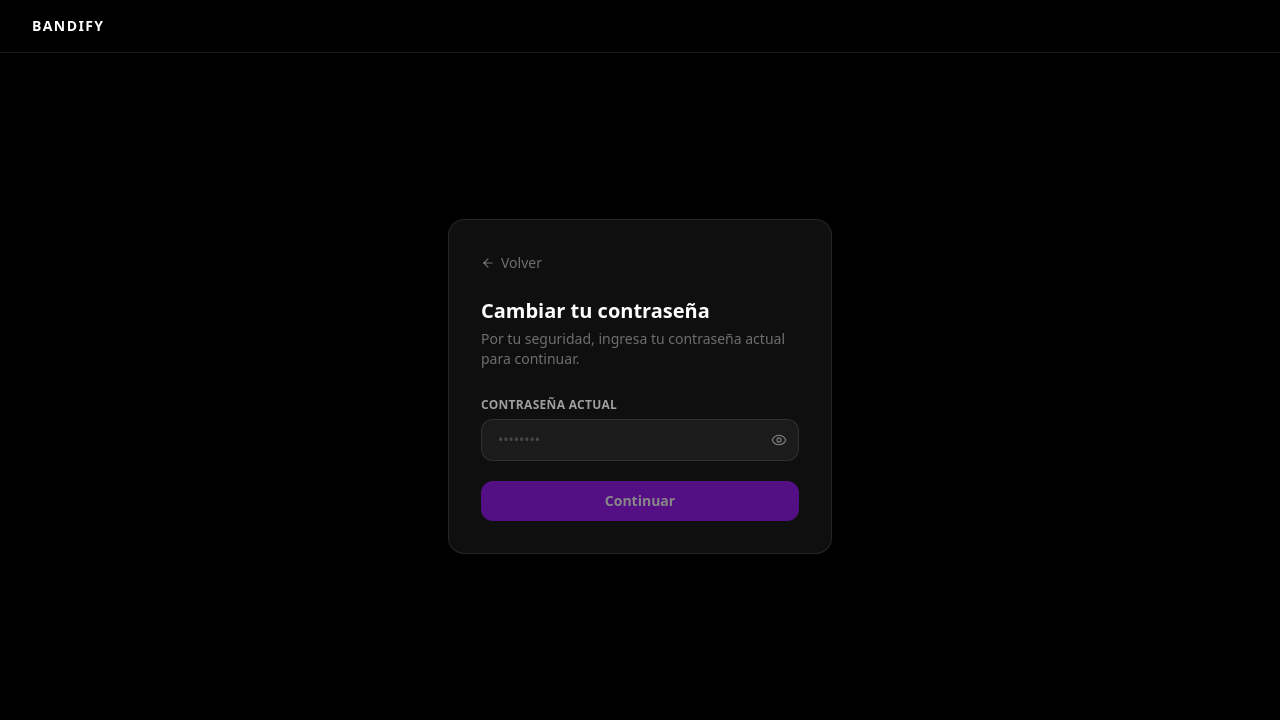
it: ChangePassword — cambio de contraseña › muestra un error si la nueva contraseña tiene menos de 8 caracteres
The image size is (1280, 720).
Type "clave-actual-123" into the password field with placeholder "••••••••" at (640, 440), box 481,419 -> 799,461
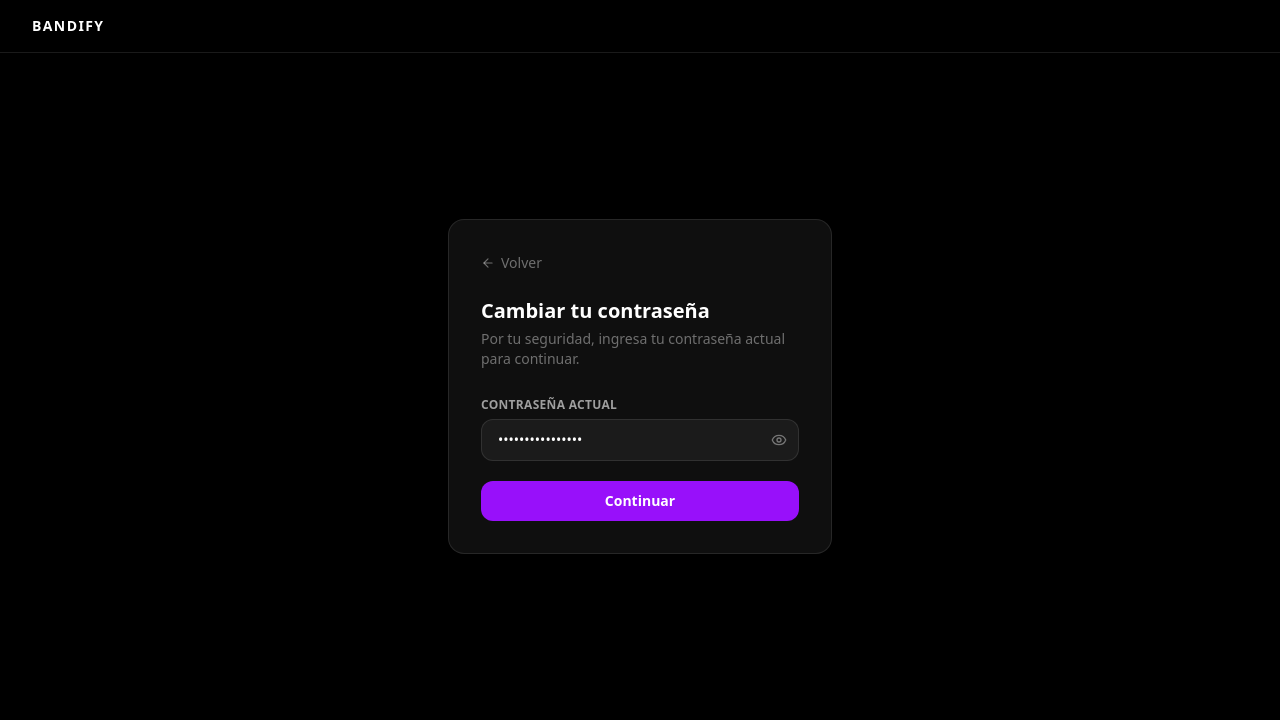
Click the button "Continuar" at (640, 501), box 481,481 -> 799,521
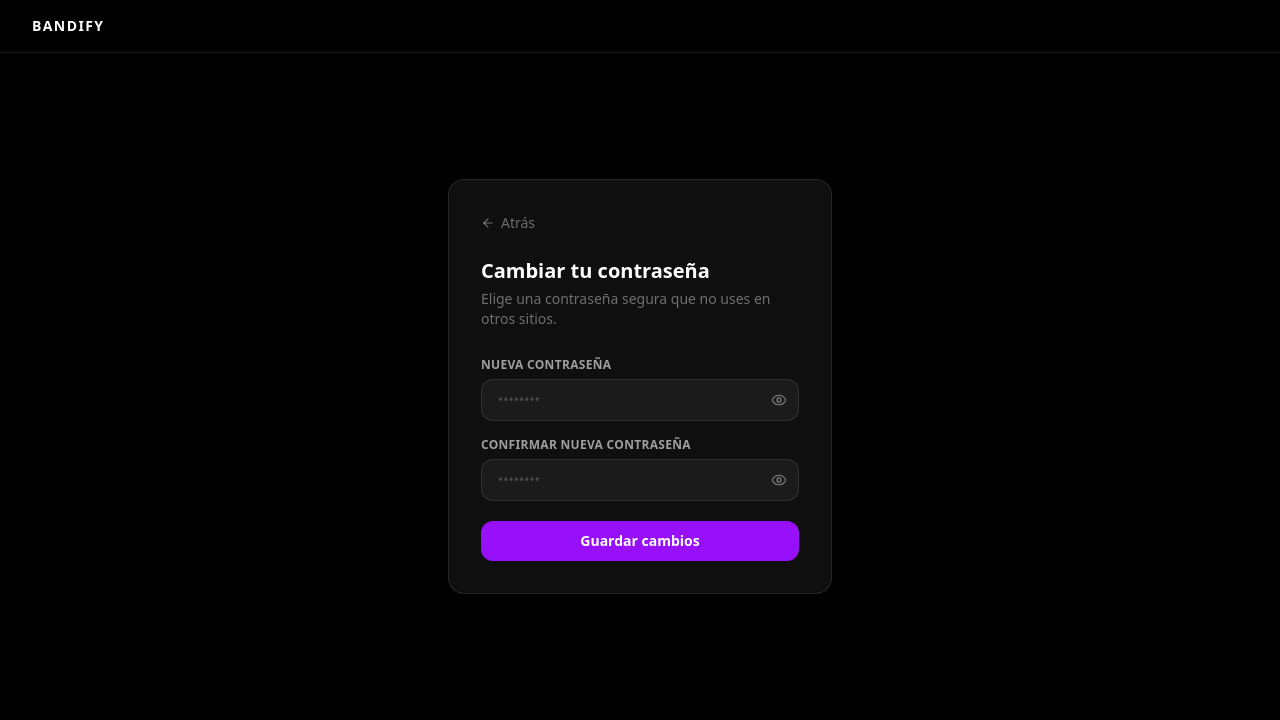
Type "corta1" into the 1st password field with placeholder "••••••••" at (640, 400), box 481,379 -> 799,421
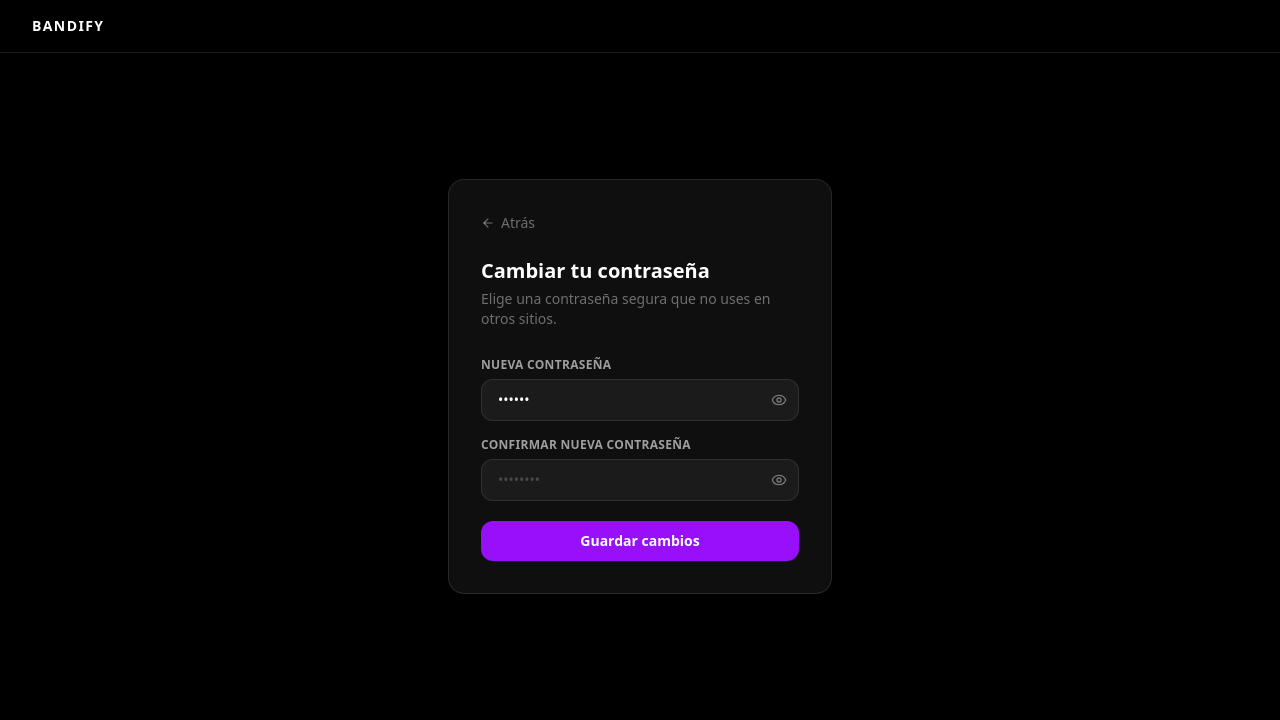
Type "corta1" into the password field with placeholder "••••••••" at (640, 480), box 481,459 -> 799,501
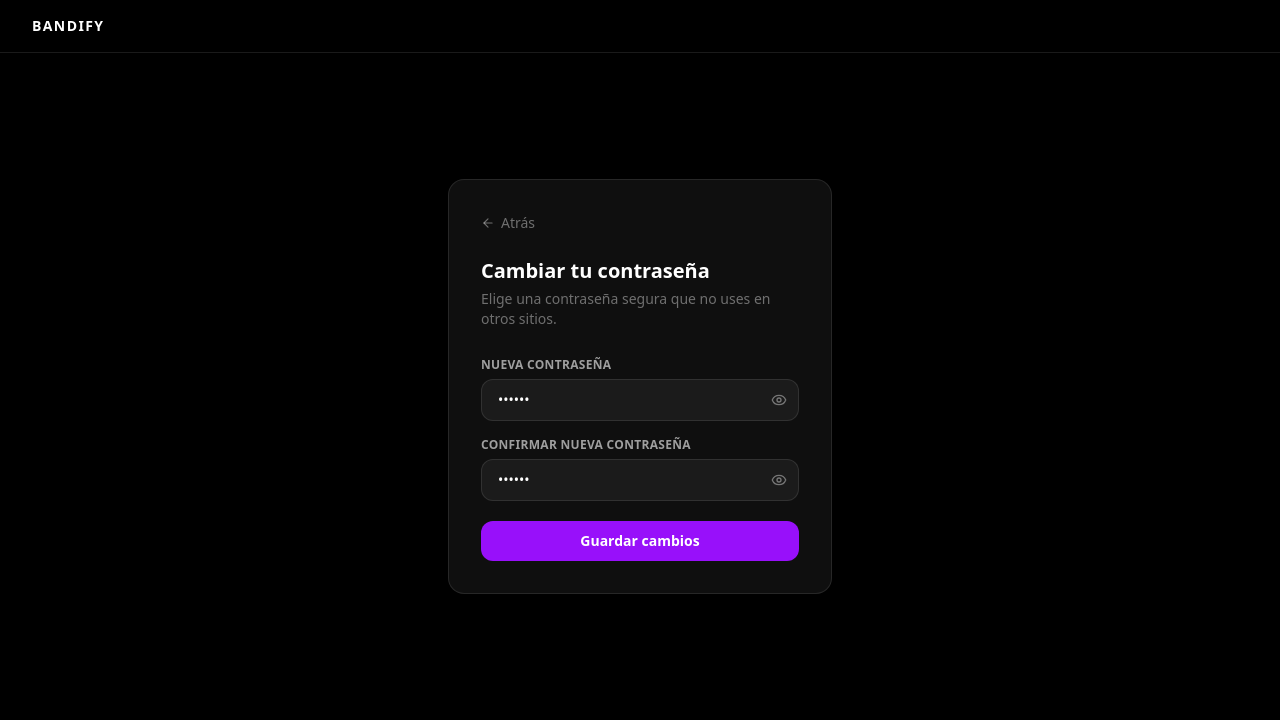
Click the button "Guardar cambios" at (640, 541), box 481,521 -> 799,561
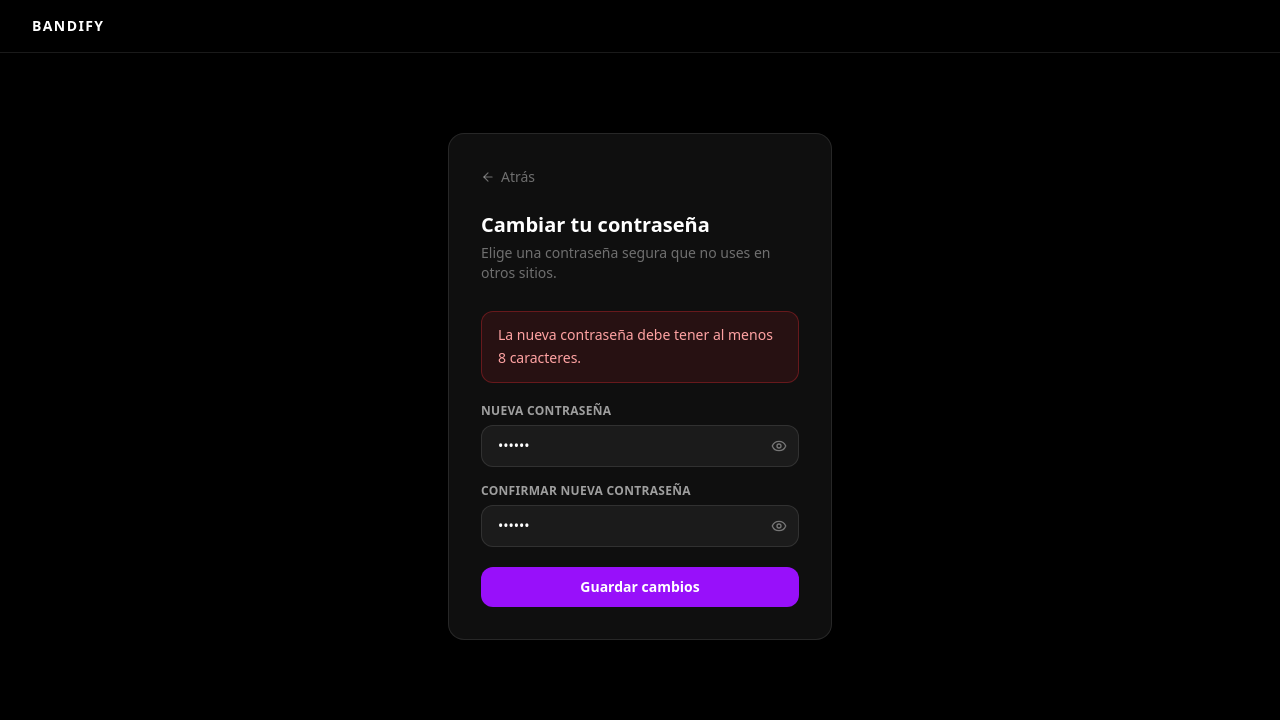
Expected: the text "La nueva contraseña debe tener al menos 8 caracteres." is shown, 498,324 -> 782,370
